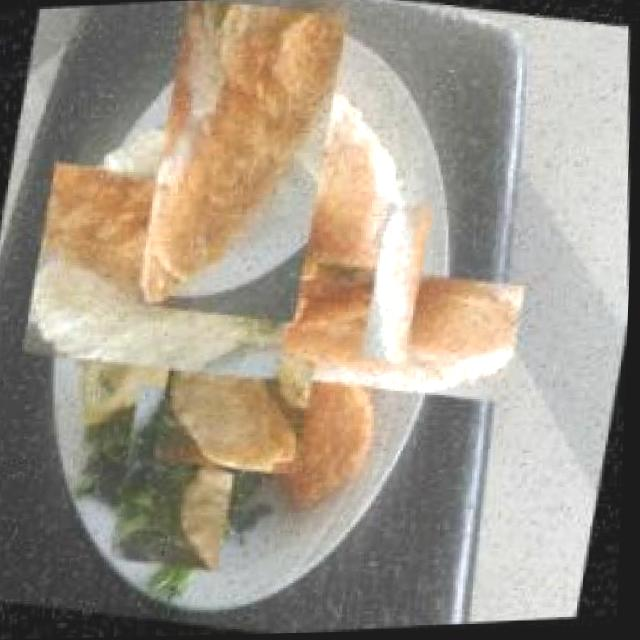fried_chicken: (127, 0, 362, 330)
fried_dumplings: (161, 329, 320, 490)
fried_eggs: (31, 138, 309, 412)
rice: (359, 202, 442, 369)
triangle_hash_brown: (191, 178, 488, 471)
water_spinach: (93, 393, 268, 566)
